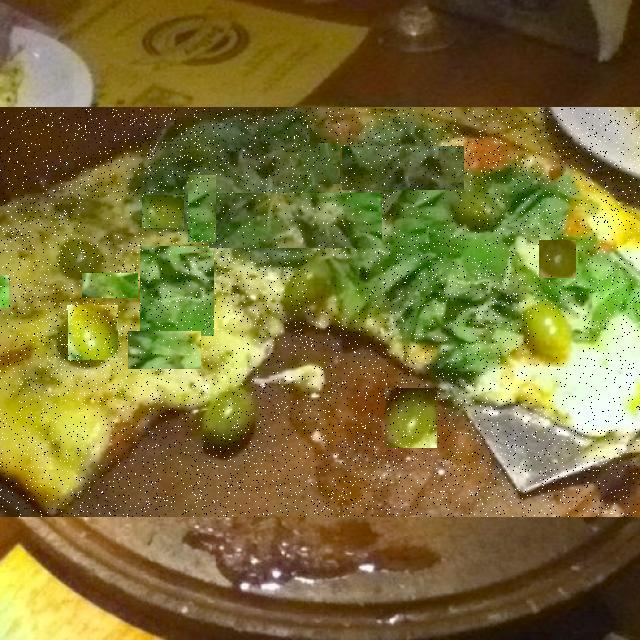Olives: (385, 388, 437, 448), (68, 306, 118, 362), (308, 256, 358, 308), (534, 318, 580, 361), (540, 240, 578, 278), (143, 195, 185, 228), (280, 151, 308, 175)
Pizza: (0, 108, 640, 517)
Rucola: (210, 193, 383, 248), (140, 246, 214, 336), (342, 146, 464, 190), (216, 249, 284, 303), (388, 193, 476, 227), (215, 125, 260, 187), (128, 331, 201, 369), (81, 201, 138, 235), (188, 175, 216, 242), (24, 271, 72, 310), (82, 273, 138, 298), (318, 144, 340, 186), (0, 276, 9, 310)
